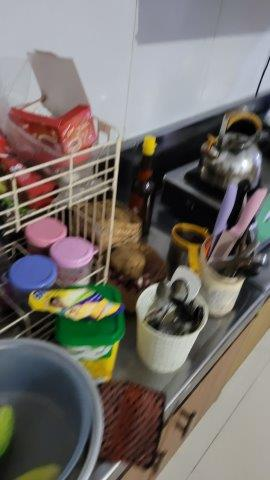botolkaca: (135, 133, 159, 229)
